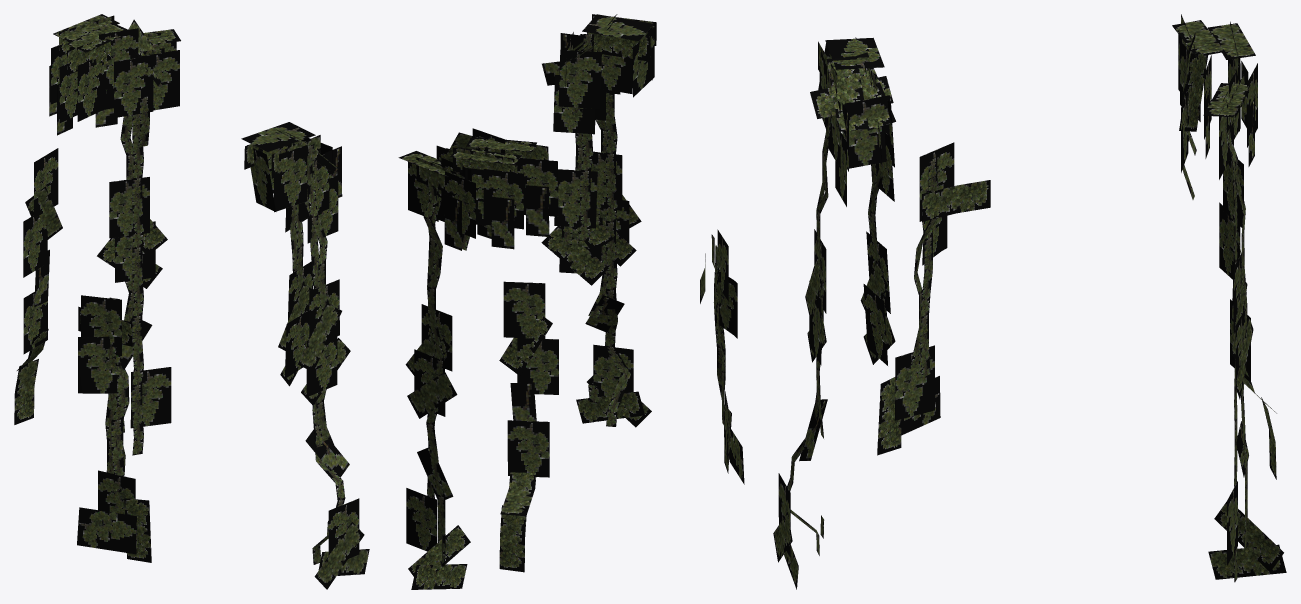
Rendered from eso_gu14_StoneRuins2_Vegetation-transformed.glb.
3 renders of one model, left to right at view 1: azimuth 30°, elevation 25°; view 2: azimuth 150°, elevation 25°; view 3: azimuth 270°, elevation 25°, orthographic. The views are drawn at different scales.
Parts seen in each view (by area): view 1: default; view 2: default; view 3: default.
Part boxes in pixels (bbox=[...]): default: bbox=[14, 14, 369, 589]; default: bbox=[398, 14, 744, 589]; default: bbox=[773, 14, 1286, 589].
Bounding box in the file's own units: 15.12 × 28.55 × 25.09.
Materials: 1 (1 with a texture image).
